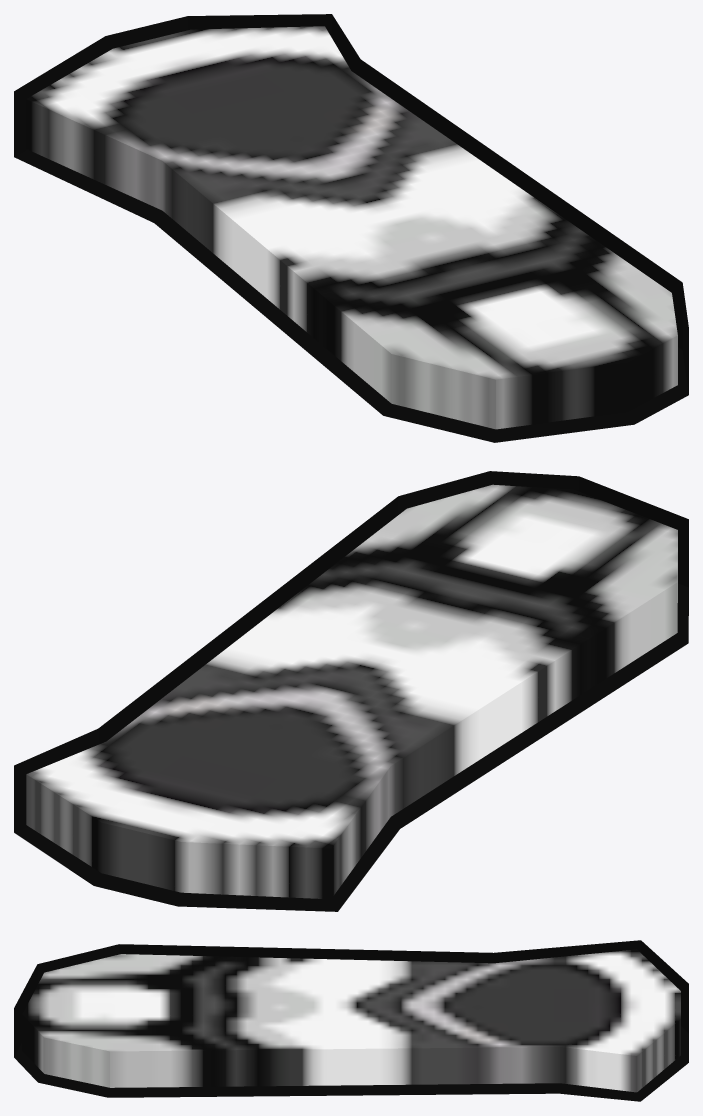
Rendered from Item_Apparel_ArmorRecon_Things_Pawn_Humanlike_Apparel_ReconArmor_ReconArmor_Thin.glb.
3 renders of one model, top to bottom at view 1: azimuth 30°, elevation 25°; view 2: azimuth 150°, elevation 25°; view 3: azimuth 270°, elevation 25°, orthographic. The views are drawn at different scales.
Visible parts, largest first — view 1: Body, Outline; view 2: Body, Outline; view 3: Body, Outline.
Boxes of the visible parts, <box> form: Body: <box>26,26,677,429</box>; Outline: <box>14,14,688,442</box>; Body: <box>26,484,677,899</box>; Outline: <box>14,471,688,911</box>; Body: <box>22,949,680,1092</box>; Outline: <box>14,940,688,1101</box>.
Size of the model in its own units: 0.1911 by 0.0402 by 0.4804.
Materials: 2 (1 with a texture image).
